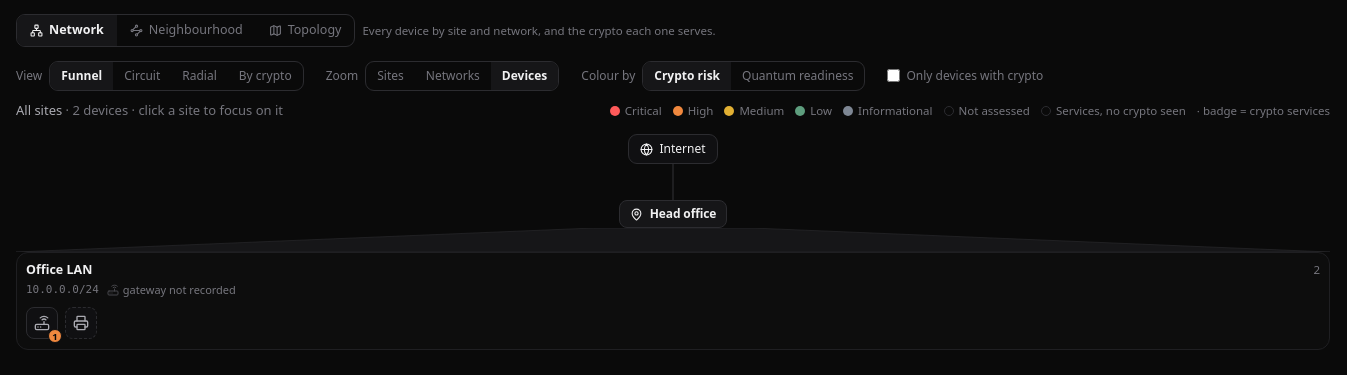
summarises sites at the Sites zoom and focuses one on click
Click the radio button labelled "Sites" at (391, 76), box [366,62,415,90]
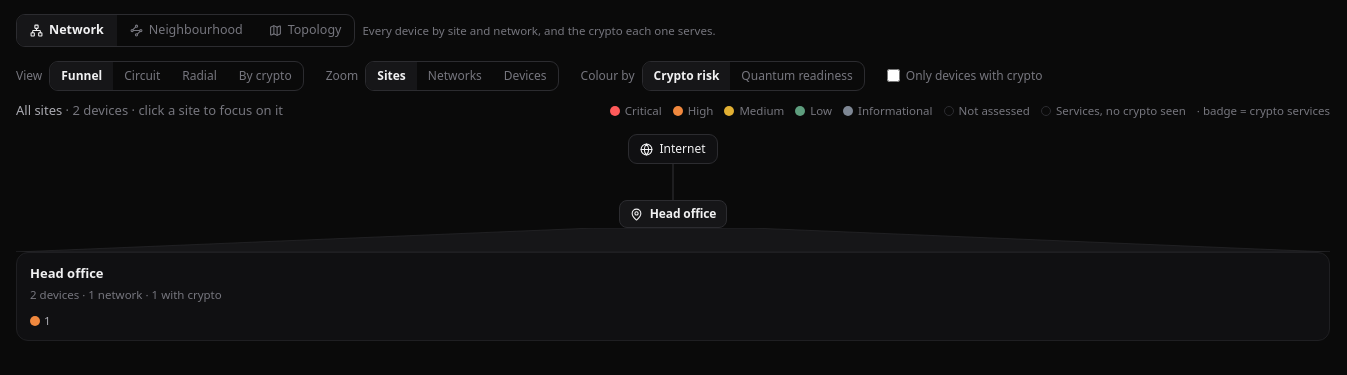
Expected: the button with test id "network-map-site-card" shows "Head office"
Expected: the button with test id "network-map-site-card" shows "2 devices"
Click the button with test id "network-map-site-card" at (67, 273), box [16,252,1330,341]
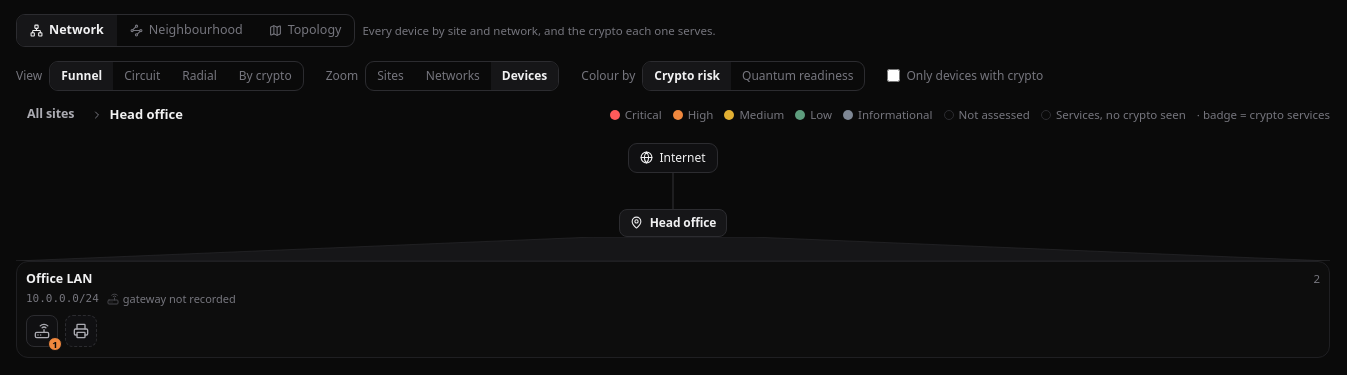
Expected: the element with test id "network-map-crumbs" shows "All sites", [16,101,85,129]
Expected: the element with test id "network-map-crumbs" shows "Head office", [109,105,183,123]
